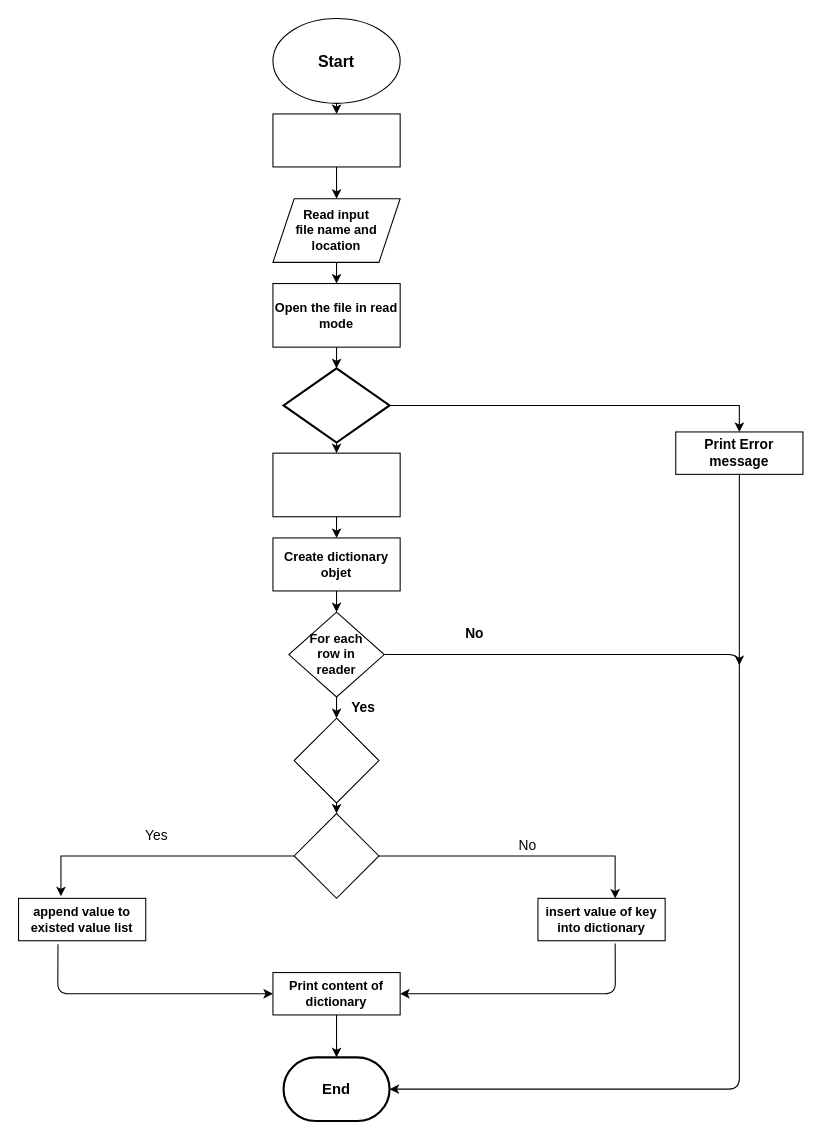
This 821x1141 diagram has some shape labels left out. Each missing label, with the box of its shape:
for each key val pair: (293, 717, 379, 803)
if key is already exist: (293, 812, 379, 898)
import csv: (272, 113, 400, 167)
Success ?: (282, 367, 390, 443)
Use DictReader from CSV library to convert text into directory: (272, 452, 400, 517)
